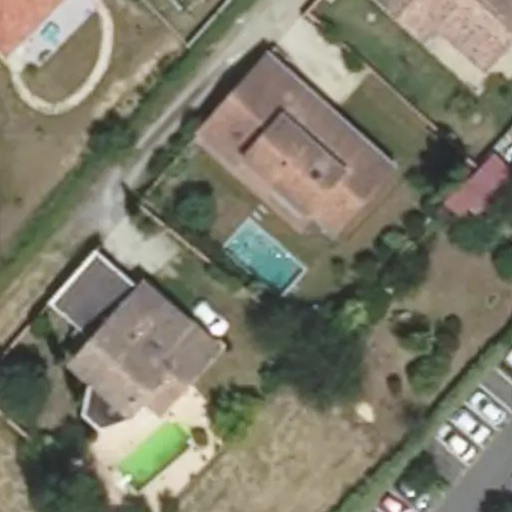pool: (209, 225, 296, 252)
